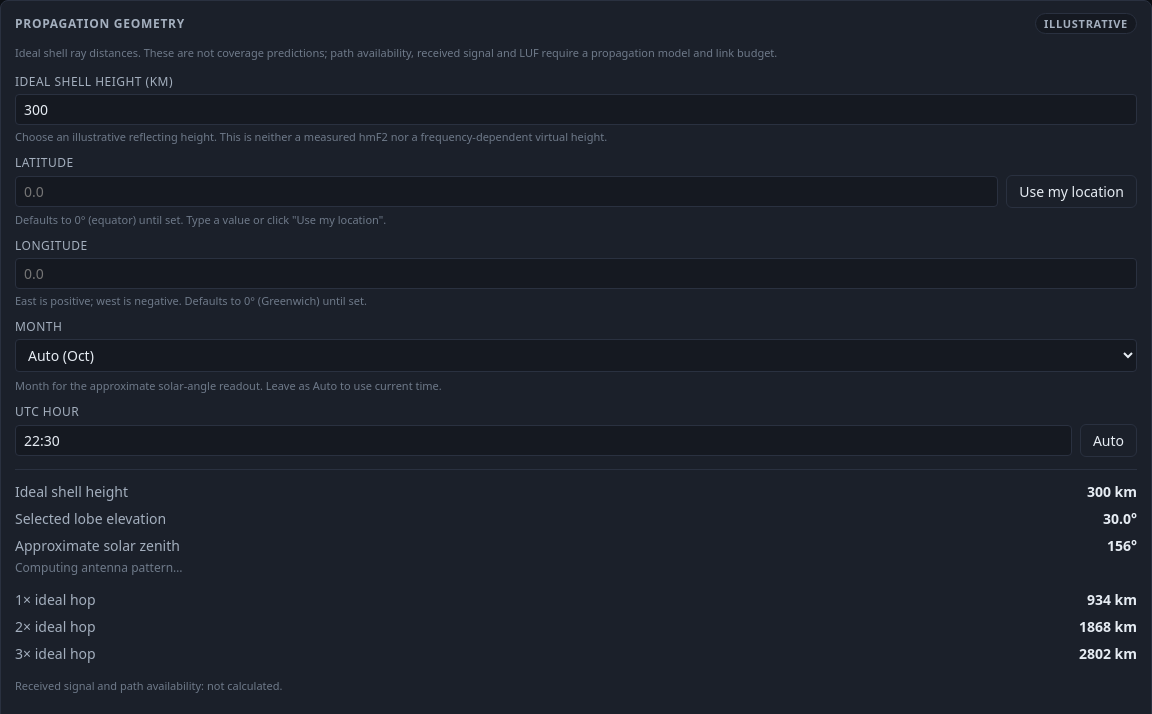
PropagationControl - time override visibility › snaps back to formatted store value on blur
This screenshot has width=1152, height=714.
Replace the text in the field named "UTC hour override" with "12" at x=543, y=440, box [15, 424, 1072, 456]
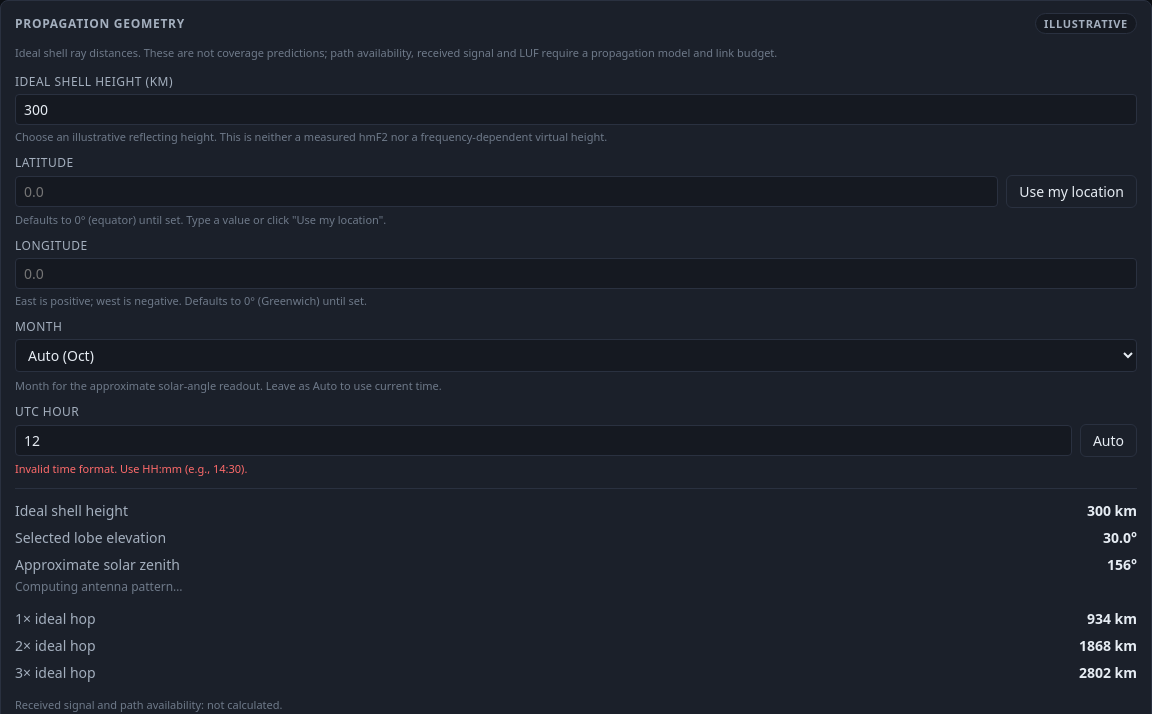
Leave the field named "UTC hour override", box [15, 424, 1072, 456]
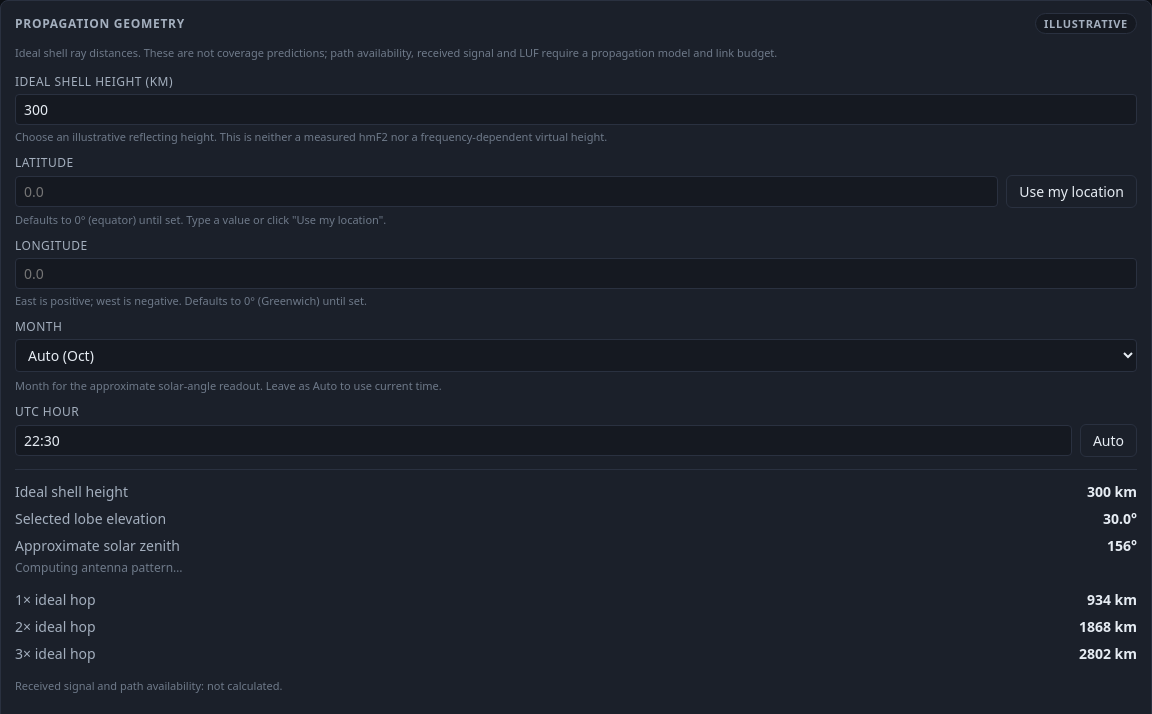
Expected: the field named "UTC hour override" holds "22:30", [15, 424, 1072, 456]
